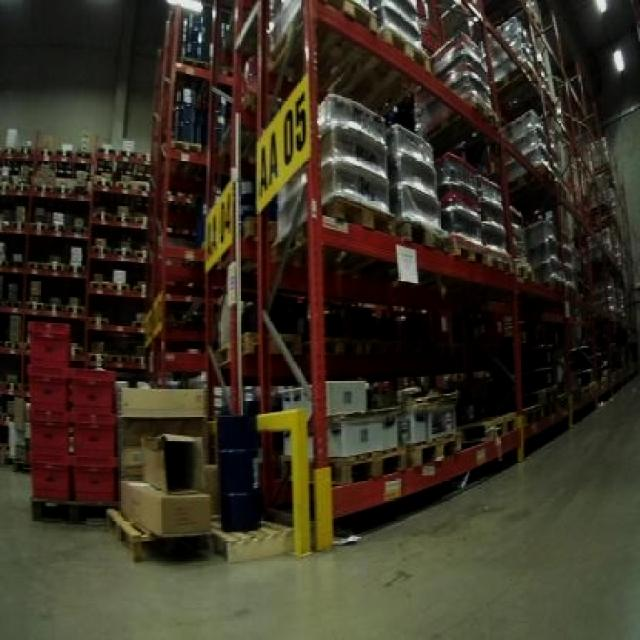pallets: (26, 320, 114, 511), (317, 92, 388, 226)
